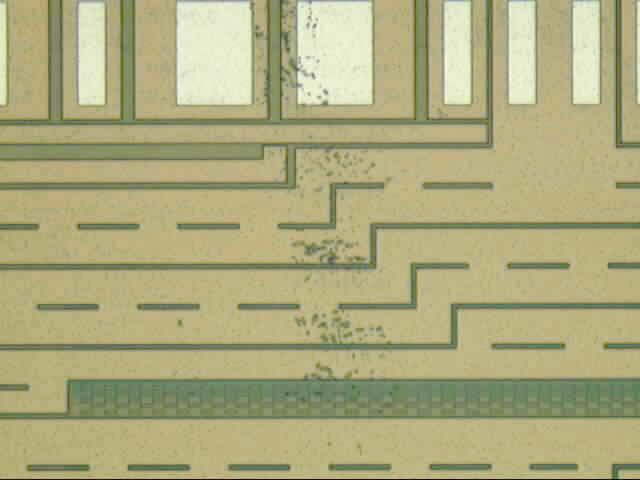PO CONTAMINATION: (246, 1, 406, 419)
